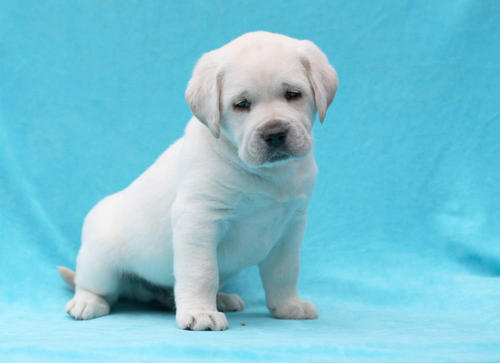dog: (175, 30, 334, 190)
